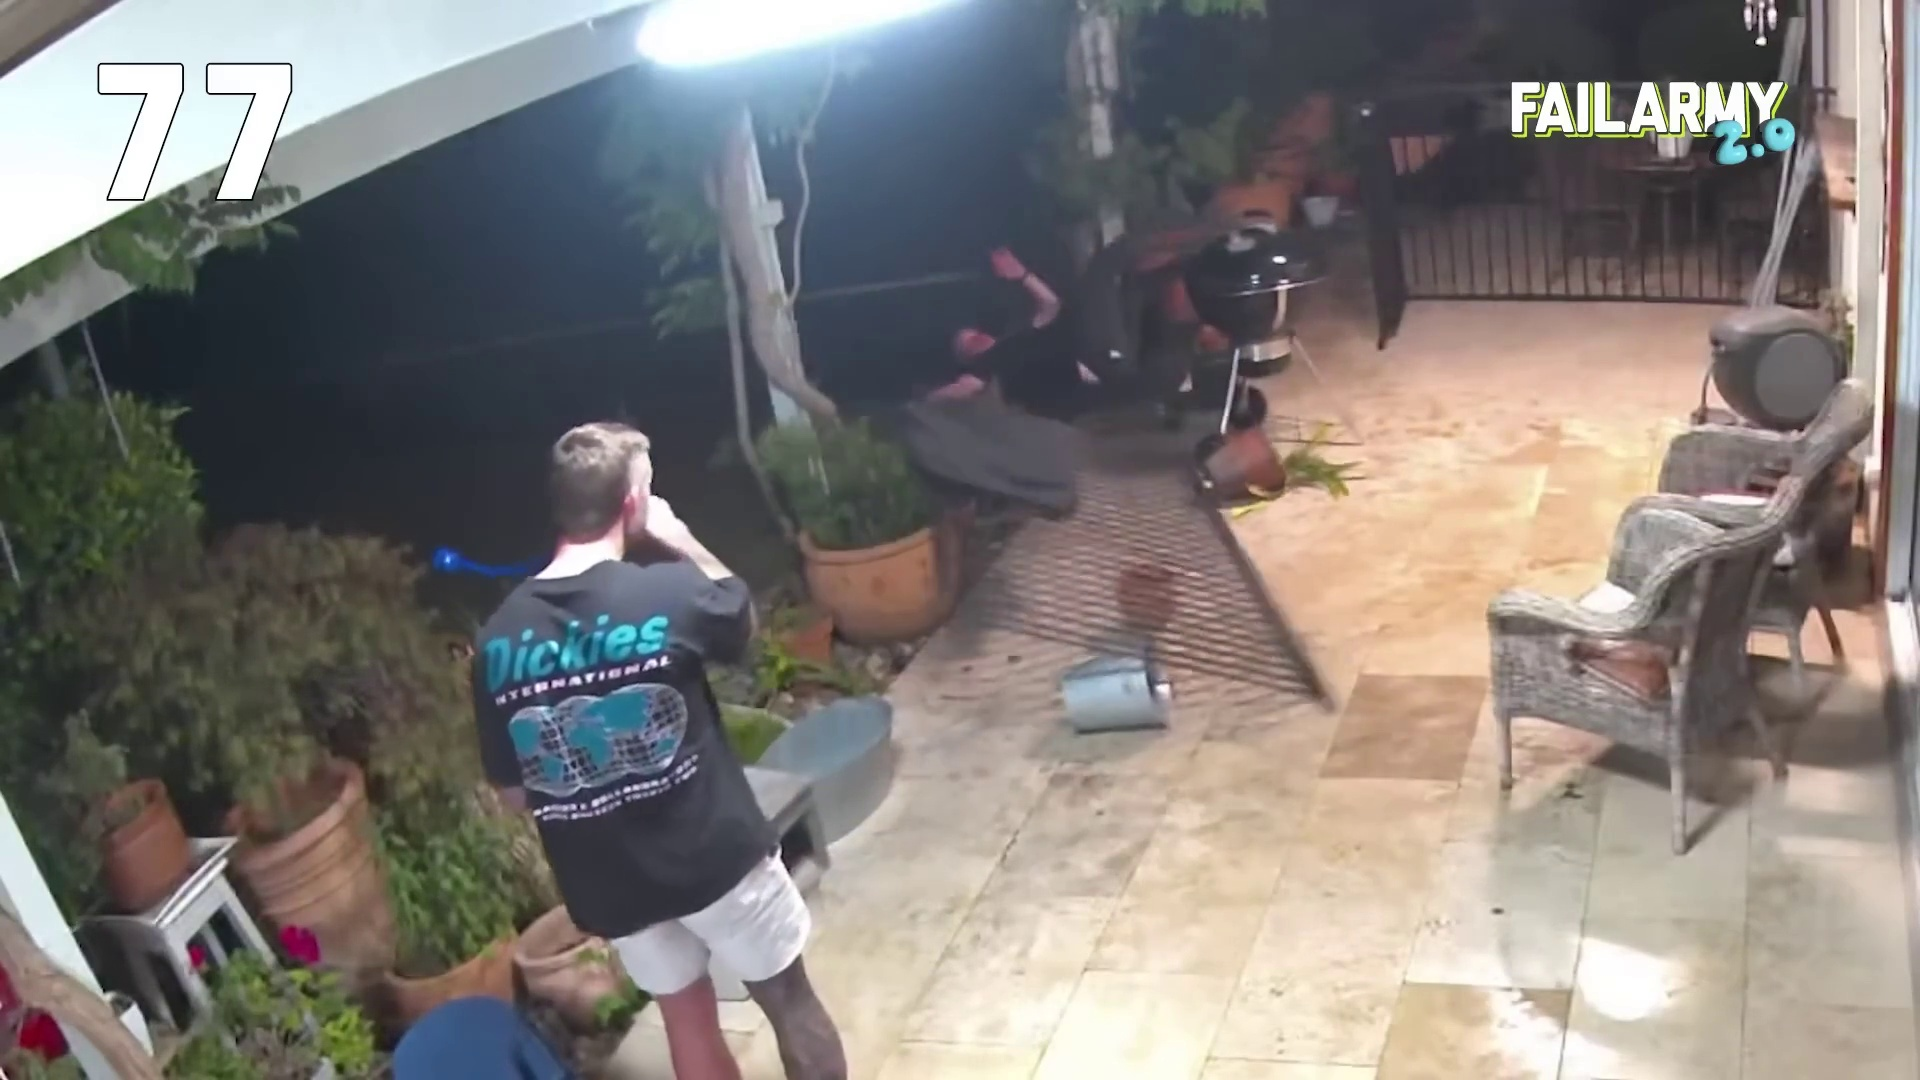fall: (847, 210, 1366, 572)
